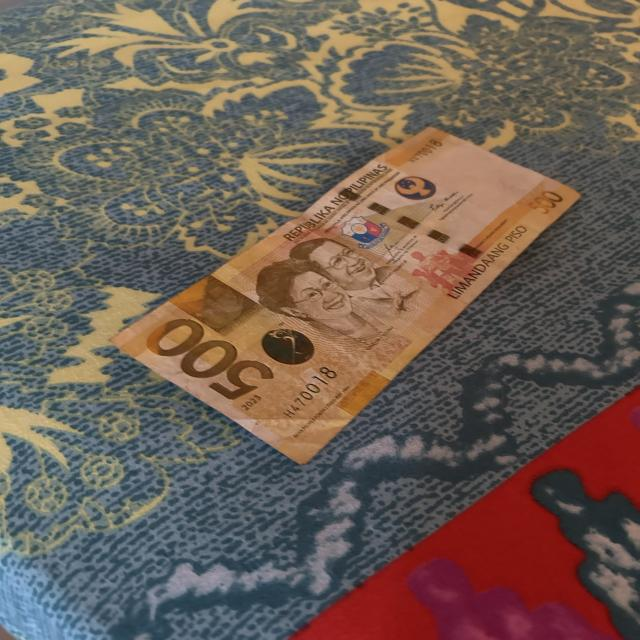concealed_value: (192, 279, 260, 328)
optically_variable_device: (266, 326, 320, 366)
serial_number: (269, 367, 345, 427)
value: (132, 314, 275, 408)
watermark: (421, 143, 524, 205)
